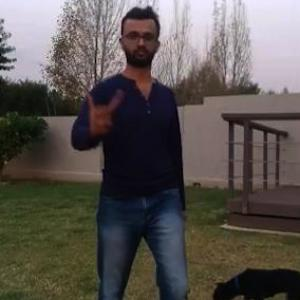takeoff-hand: (80, 80, 125, 138)
